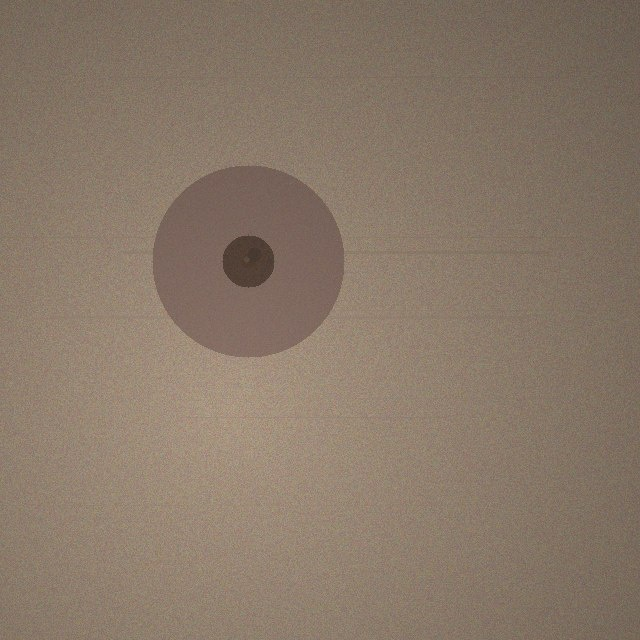cold_weld: (152, 165, 344, 357)
